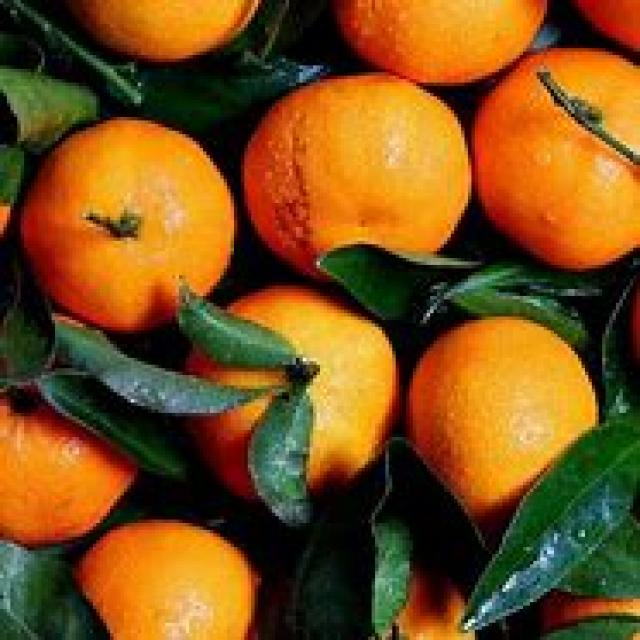orange: (189, 284, 399, 501), (17, 114, 228, 328), (242, 72, 466, 257), (471, 48, 640, 265), (411, 314, 597, 485), (75, 520, 262, 640), (0, 370, 132, 533)
